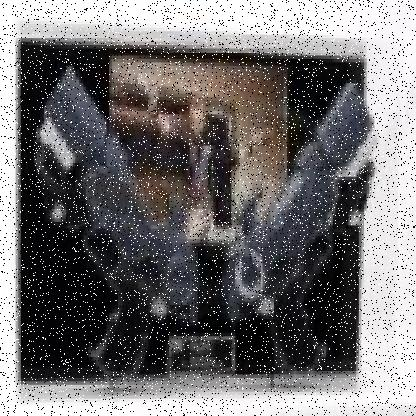pistol: (36, 66, 197, 375), (242, 73, 372, 378)
